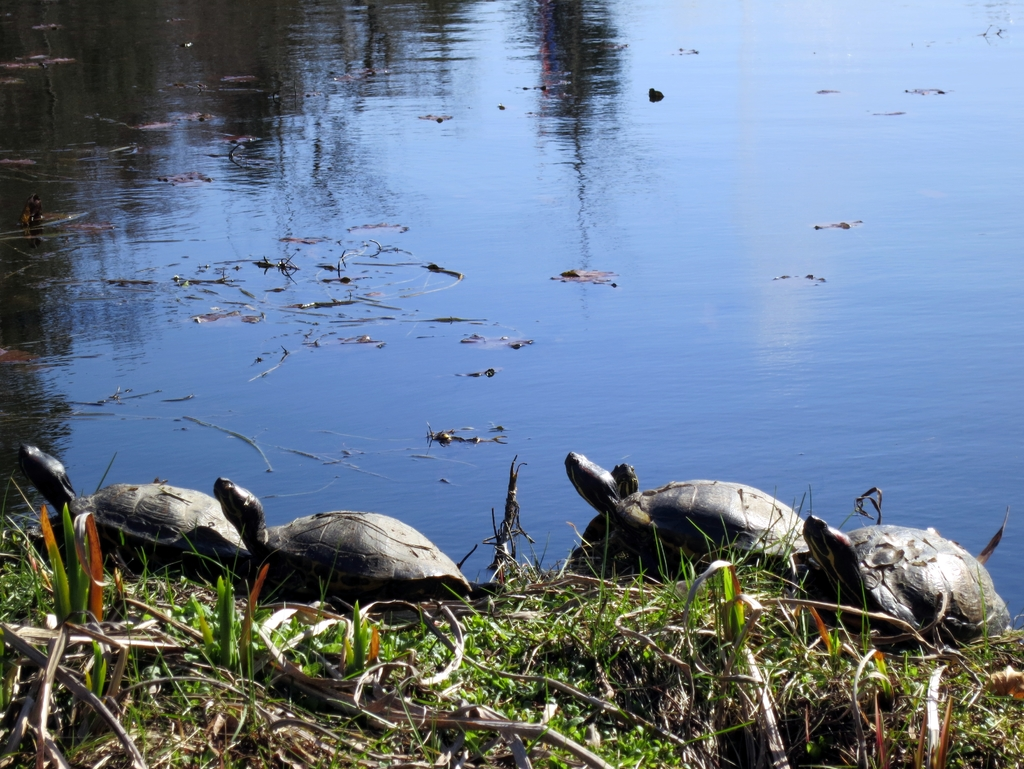Sea turtles: (561, 444, 821, 596), (211, 474, 471, 621), (16, 438, 257, 591), (797, 511, 1009, 653), (563, 466, 700, 594)
